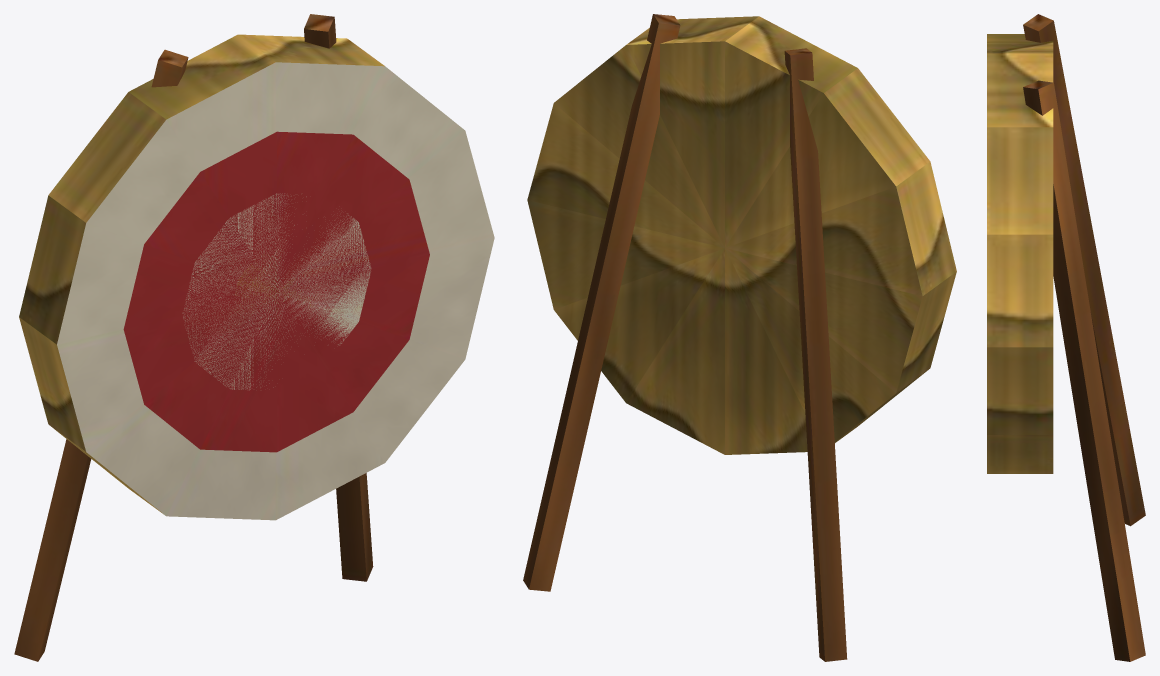
File: archery_target.glb
The picture shows the model from 3 angles, left to right: view 1: azimuth 30°, elevation 25°; view 2: azimuth 150°, elevation 25°; view 3: azimuth 270°, elevation 25°; orthographic projection. The views are drawn at different scales.
Parts seen in each view (by area): view 1: props_0_0; view 2: props_0_0; view 3: props_0_0.
Boxes of the visible parts, x1,y1,x2,y2 form: props_0_0: (14, 14, 494, 661); props_0_0: (523, 14, 956, 661); props_0_0: (987, 14, 1145, 661).
Bounding box in the file's own units: 1.2 × 1.61 × 0.4369.
Materials: 2 (2 with a texture image).
